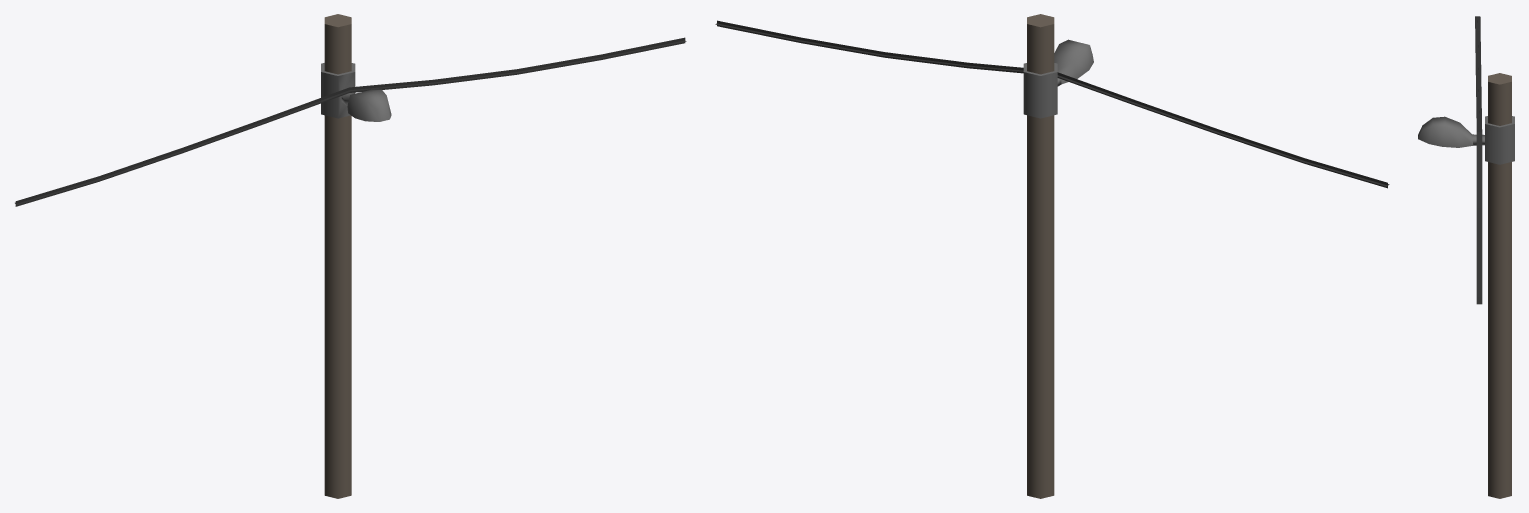
File: POSTEDELUZFBX.fbx
The picture shows the model from 3 angles, left to right: view 1: azimuth 30°, elevation 25°; view 2: azimuth 150°, elevation 25°; view 3: azimuth 270°, elevation 25°; orthographic projection. The views are drawn at different scales.
Visible parts, largest first — view 1: Luz, pasted__pasted__Cable, pasted__Cable; view 2: Luz, pasted__pasted__Cable, pasted__Cable; view 3: Luz, pasted__Cable, pasted__pasted__Cable.
Part boxes in pixels (box(x1,y1,x2,y2)): Luz: box(321, 14, 391, 498); pasted__pasted__Cable: box(15, 87, 350, 206); pasted__Cable: box(349, 37, 686, 92); Luz: box(1023, 14, 1093, 498); pasted__pasted__Cable: box(1057, 72, 1389, 188); pasted__Cable: box(715, 20, 1023, 73); Luz: box(1418, 73, 1514, 498); pasted__Cable: box(1476, 132, 1482, 304); pasted__pasted__Cable: box(1475, 16, 1482, 132).
Size of the model in its own units: 10 by 6.73 by 1.42.
